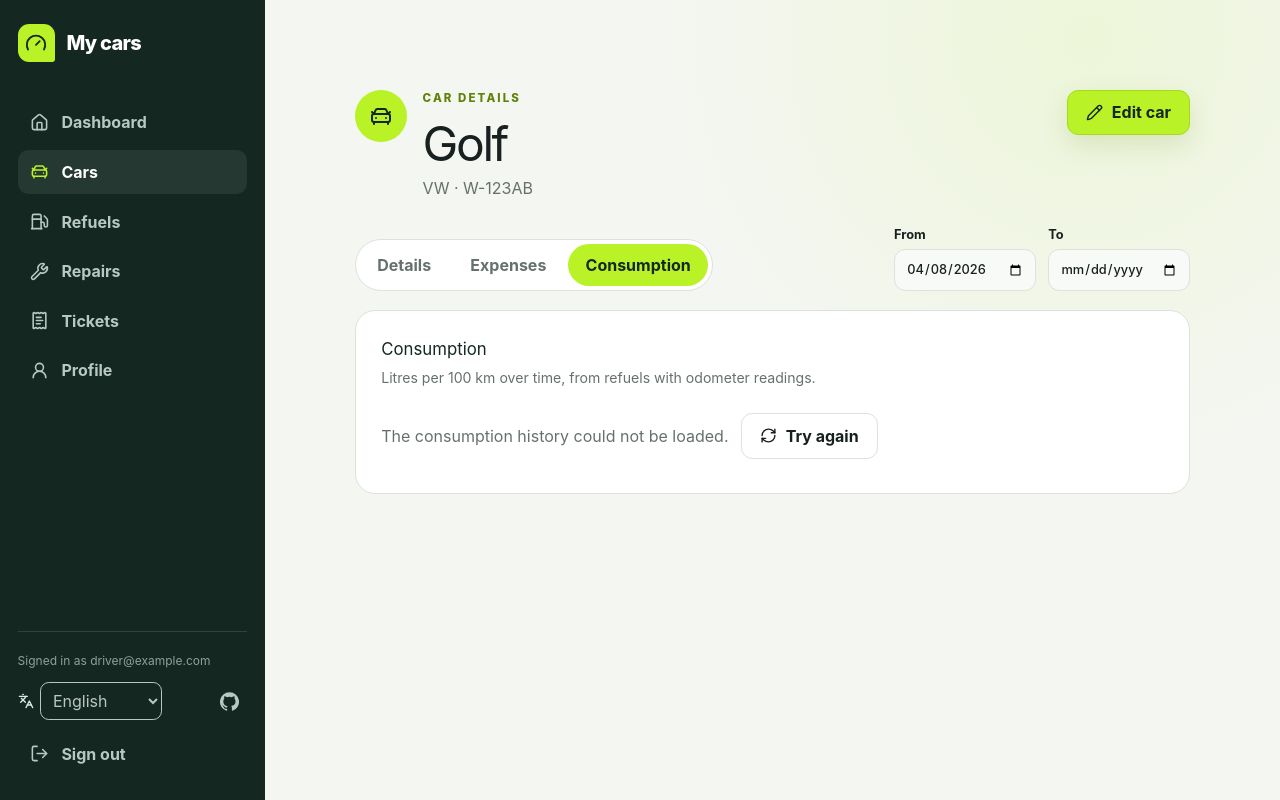
Test: car detail consumption › charts the car and shows a retry on failure
Expected: the message shows "The consumption history could not be loaded.", [381,426,728,446]
Click the button "Try again". click: (809, 436)
box: [740,413,878,458]
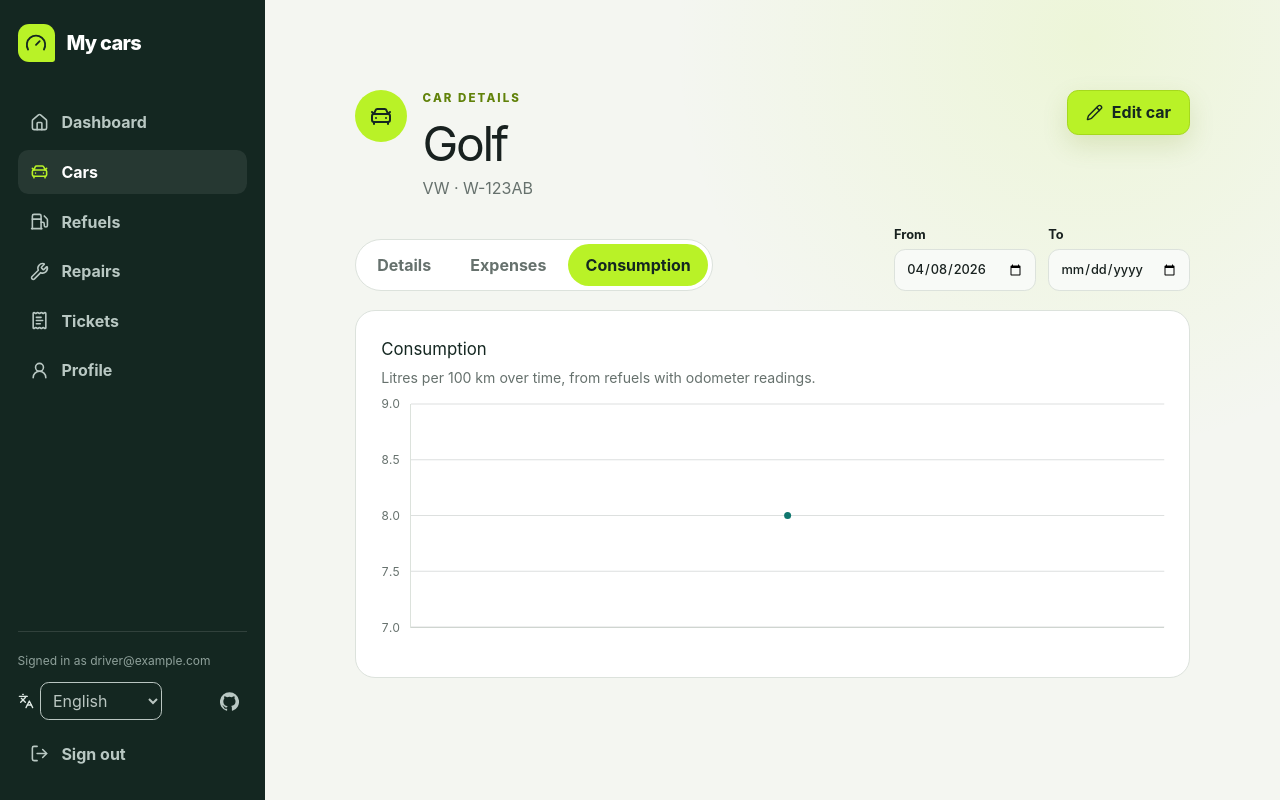
Expected: the slider named "Consumption" is shown, [410,404,1164,628]
